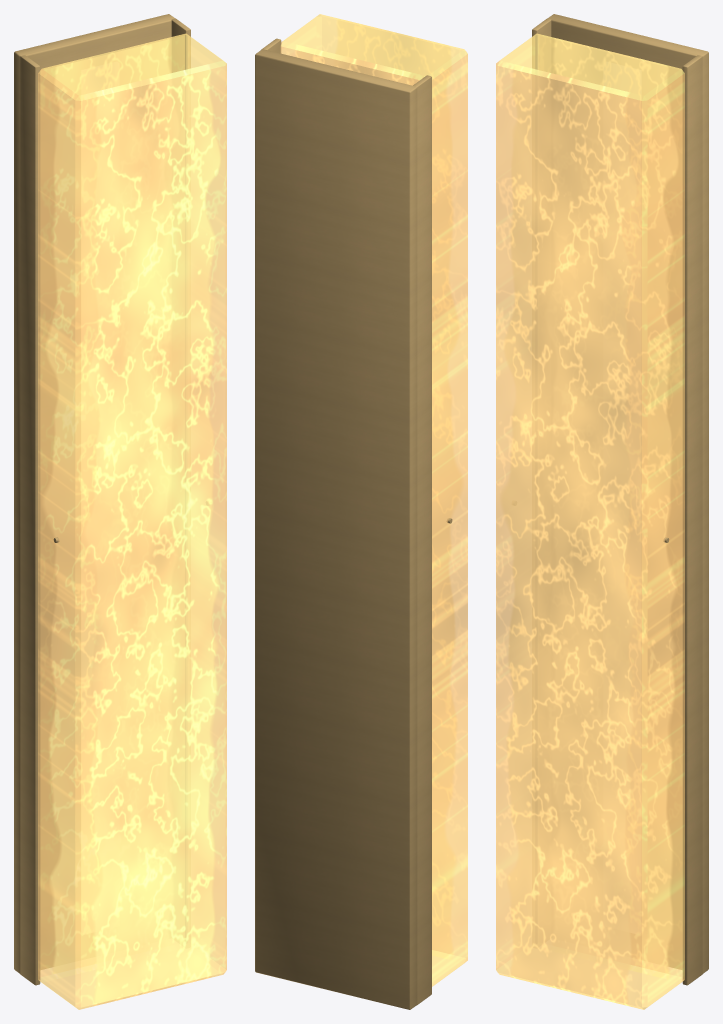
Rendered from modern-brass-1-light-led-wall-sconces-rectangle-wall-light.glb.
3 views of the same model, side by side, from view 1: azimuth 30°, elevation 25°; view 2: azimuth 150°, elevation 25°; view 3: azimuth 330°, elevation 25° (orthographic).
Visible parts, largest first — view 1: IceResin, BackTray, SideRail_-1, SideRail_1; view 2: BackTray, IceResin, SideRail_-1; view 3: IceResin, BackTray, SideRail_1, SideRail_-1.
Part boxes in pixels (left/top/right/bottom): IceResin: left=38, top=33, right=226, bottom=1009; BackTray: left=14, top=14, right=174, bottom=973; SideRail_-1: left=20, top=55, right=40, bottom=985; SideRail_1: left=171, top=18, right=190, bottom=72; BackTray: left=255, top=49, right=417, bottom=1009; IceResin: left=280, top=14, right=467, bottom=986; SideRail_-1: left=413, top=75, right=431, bottom=1005; IceResin: left=496, top=33, right=684, bottom=1009; BackTray: left=548, top=14, right=708, bottom=973; SideRail_1: left=682, top=55, right=702, bottom=985; SideRail_-1: left=532, top=18, right=551, bottom=72.
Size of the model in its own units: 0.0889 by 0.5004 by 0.061.
3 materials, 2 textured.
